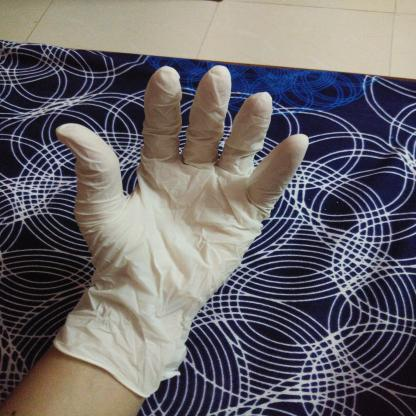gloved_hand: (45, 61, 314, 404)
